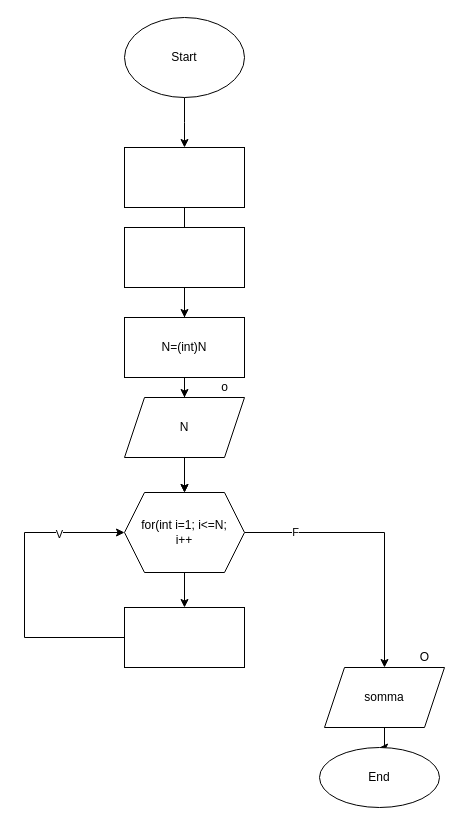
This 462x825 diagram has some shape labels left out. The box of each missing label's shape, as (x1, y1, x2, y2) in pixels:
double N = Mathrandom()*100: (124, 226, 244, 288)
int somma=0: (124, 146, 244, 208)
somma+=1: (124, 606, 244, 668)
